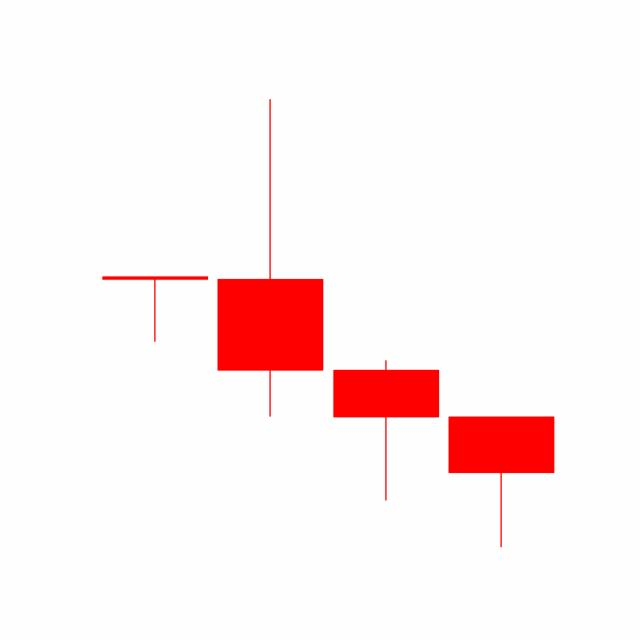Hammer: (328, 358, 444, 502)
